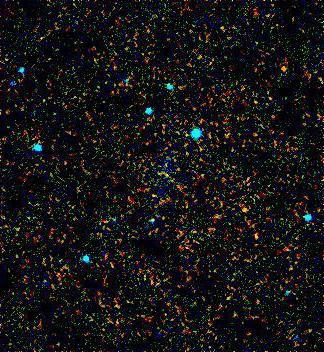star: (263, 52, 293, 82)
